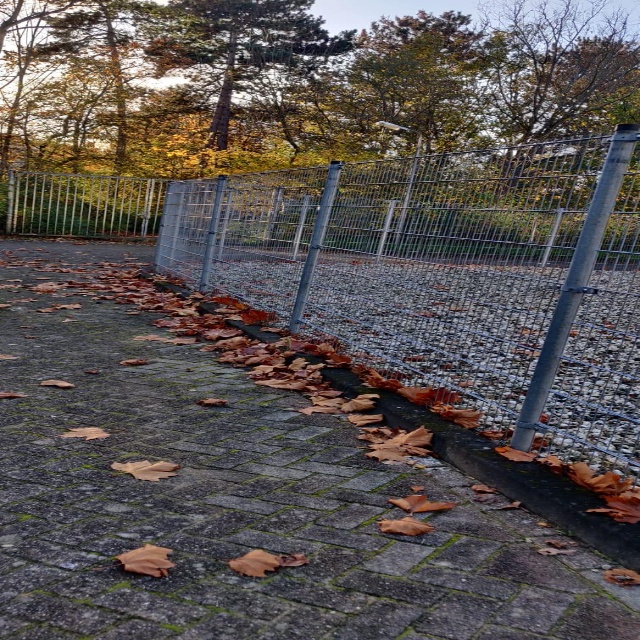obstacle: (0, 53, 614, 638)
